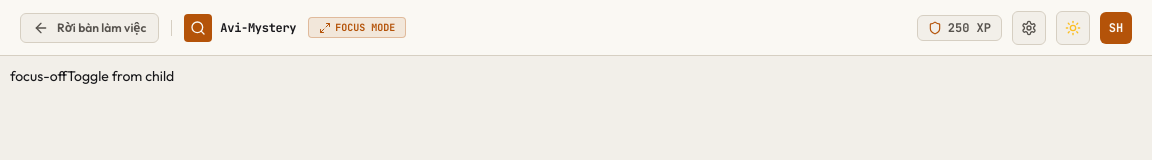
Test: FocusLayout Component Tests › cho phép bật/tắt Chế độ tập trung (Focus Mode) và đồng bộ qua useFocusMode hook
This screenshot has width=1152, height=160.
Check: the text with test id "focus-state" reads "focus-off", box [10,67,67,85]
Note: Bật Focus Mode
What coordinates should you click on to do the following:
click the button "FOCUS MODE"
I would click on:
 (357, 28)
Its box is [308,17,406,38].
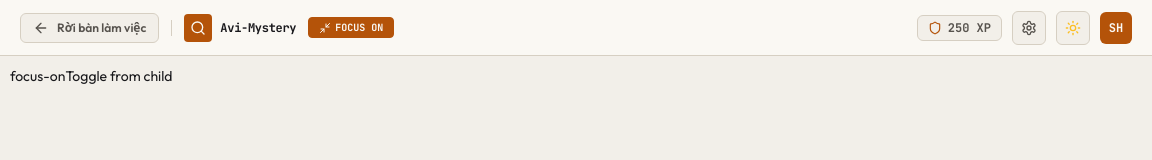
Check: the text with test id "focus-state" reads "focus-on", box [10,67,66,85]
Check: the text "FOCUS ON" is shown, box [335,20,383,35]
Note: Tắt Focus Mode
What coordinates should you click on to do the following:
click the button with aria-label "FOCUS MODE"
I would click on:
 (351, 28)
Its box is [308,17,394,38].
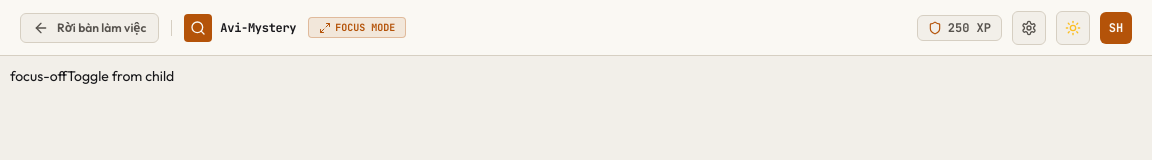
Check: the text with test id "focus-state" reads "focus-off", box [10,67,67,85]
Check: the text "FOCUS MODE" is shown, box [335,20,395,35]
